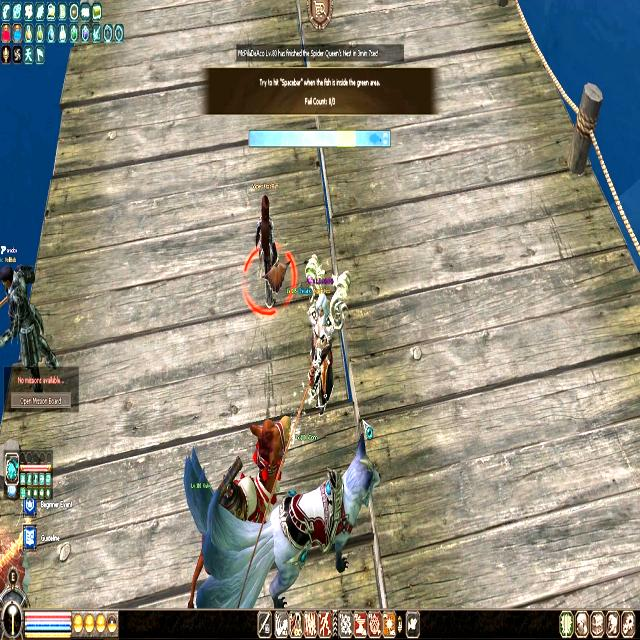fishes: (369, 131, 383, 147)
